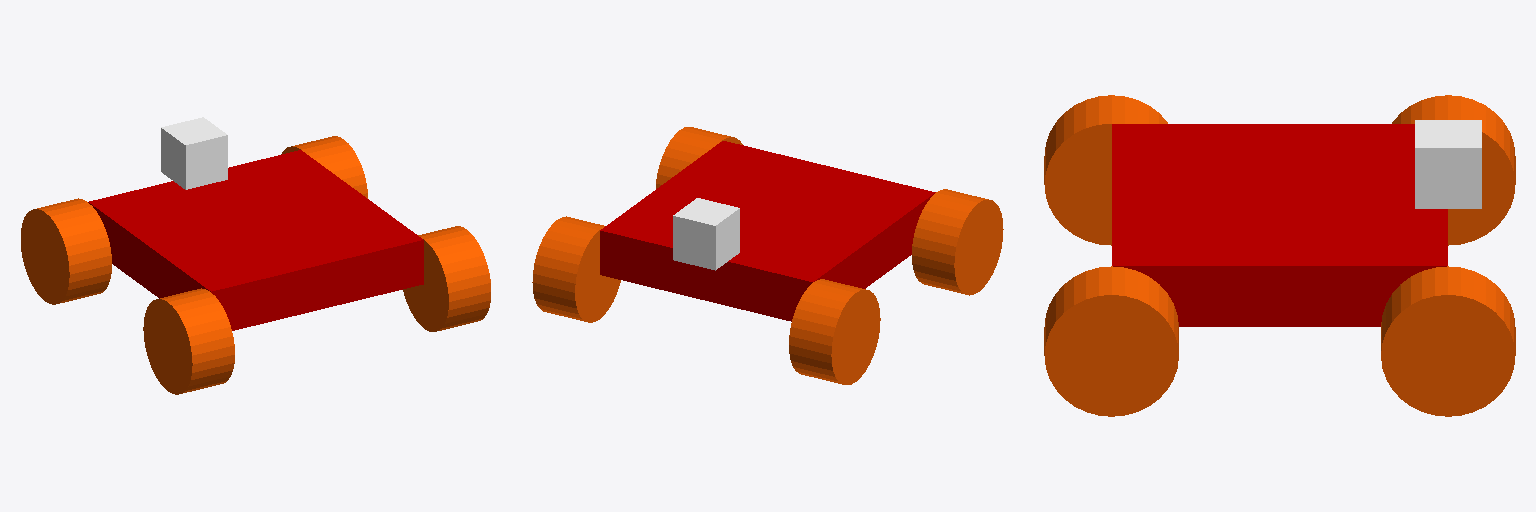
robot.urdf — car:
<?xml version="1.0" ?>
<!-- =================================================================================== -->
<!-- |    This document was autogenerated by xacro from car.xacro                      | -->
<!-- |    EDITING THIS FILE BY HAND IS NOT RECOMMENDED                                 | -->
<!-- =================================================================================== -->
<robot name="car">
  <material name="black">
    <color rgba="0.0 0.0 0.0 1.0"/>
  </material>
  <material name="blue">
    <color rgba="0.0 0.0 0.8 1.0"/>
  </material>
  <material name="green">
    <color rgba="0.0 0.8 0.0 1.0"/>
  </material>
  <material name="grey">
    <color rgba="0.2 0.2 0.2 1.0"/>
  </material>
  <material name="orange">
    <color rgba="1.0 0.4235294117647059 0.0392156862745098 1.0"/>
  </material>
  <material name="brown">
    <color rgba="0.8705882352941177 0.8117647058823529 0.7647058823529411 1.0"/>
  </material>
  <material name="red">
    <color rgba="0.8 0.0 0.0 1.0"/>
  </material>
  <material name="white">
    <color rgba="1.0 1.0 1.0 1.0"/>
  </material>
  <!-- #region XACRO_MACROS -->
  <!-- #endregion -->
  <!-- #endregion -->
  <!-- #endregion -->
  <!-- #endregion -->
  <!-- ROBOT BEGINS HERE -->
  <!-- ROBOT BEGINS HERE -->
  <!-- ROBOT BEGINS HERE -->
  <!-- #region BASE -->
  <link name="base_link">
    <visual>
      <origin rpy="0 0 0" xyz="0 0 0"/>
      <geometry>
        <box size="0.5 0.5 0.1"/>
      </geometry>
      <material name="red"/>
    </visual>
    <collision>
      <origin rpy="0 0 0" xyz="0 0 0"/>
      <geometry>
        <box size="0.5 0.5 0.1"/>
      </geometry>
    </collision>
    <inertial>
      <mass value="0.05"/>
      <inertia ixx="0.0010833333333333333" ixy="0" ixz="0" iyy="0.0020833333333333333" iyz="0" izz="0.0010833333333333333"/>
    </inertial>
  </link>
  <!-- #endregion -->
  <!-- #region WHEELS -->
  <!-- #region FRONT_LEFT_WHEEL -->
  <link name="front_left_wheel">
    <visual>
      <origin rpy="0 1.570796327 0" xyz="0.051 0 0"/>
      <geometry>
        <cylinder length="0.1" radius="0.1"/>
      </geometry>
      <material name="orange"/>
    </visual>
    <collision>
      <origin rpy="0 1.570796327 0" xyz="0.051 0 0"/>
      <geometry>
        <cylinder length="0.1" radius="0.1"/>
      </geometry>
    </collision>
    <inertial>
      <mass value="0.05"/>
      <inertia ixx="0.0001666666666666667" ixy="0" ixz="0" iyy="0.0001666666666666667" iyz="0" izz="0.00025000000000000006"/>
    </inertial>
  </link>
  <joint name="base_to_front_left_wheel" type="fixed">
    <parent link="base_link"/>
    <child link="front_left_wheel"/>
    <!-- joint of child is xyz away from parent -->
    <origin xyz="0.25 0.25 -0.05"/>
    <axis xyz="1 0 0"/>
  </joint>
  <!-- #endregion -->
  <!-- #region FRONT_RIGHT_WHEEL -->
  <link name="front_right_wheel">
    <visual>
      <origin rpy="0 -1.570796327 0" xyz="0.051 0 0"/>
      <geometry>
        <cylinder length="0.1" radius="0.1"/>
      </geometry>
      <material name="orange"/>
    </visual>
    <collision>
      <origin rpy="0 -1.570796327 0" xyz="0.051 0 0"/>
      <geometry>
        <cylinder length="0.1" radius="0.1"/>
      </geometry>
    </collision>
    <inertial>
      <mass value="0.05"/>
      <inertia ixx="0.0001666666666666667" ixy="0" ixz="0" iyy="0.0001666666666666667" iyz="0" izz="0.00025000000000000006"/>
    </inertial>
  </link>
  <joint name="base_to_front_right_wheel" type="fixed">
    <parent link="base_link"/>
    <child link="front_right_wheel"/>
    <!-- joint of child is xyz away from parent -->
    <origin xyz="0.25 -0.25 -0.05"/>
    <axis xyz="1 0 0"/>
  </joint>
  <!-- #endregion -->
  <!-- #region BACK_LEFT_WHEEL -->
  <link name="back_left_wheel">
    <visual>
      <origin rpy="0 1.570796327 0" xyz="-0.051 0 0"/>
      <geometry>
        <cylinder length="0.1" radius="0.1"/>
      </geometry>
      <material name="orange"/>
    </visual>
    <collision>
      <origin rpy="0 1.570796327 0" xyz="-0.051 0 0"/>
      <geometry>
        <cylinder length="0.1" radius="0.1"/>
      </geometry>
    </collision>
    <inertial>
      <mass value="0.05"/>
      <inertia ixx="0.0001666666666666667" ixy="0" ixz="0" iyy="0.0001666666666666667" iyz="0" izz="0.00025000000000000006"/>
    </inertial>
  </link>
  <joint name="base_to_back_left_wheel" type="fixed">
    <parent link="base_link"/>
    <child link="back_left_wheel"/>
    <!-- joint of child is xyz away from parent -->
    <origin xyz="-0.25 0.25 -0.05"/>
    <axis xyz="1 0 0"/>
  </joint>
  <!-- #endregion -->
  <!-- #region BACK_RIGHT_WHEEL -->
  <link name="back_right_wheel">
    <visual>
      <origin rpy="0 1.570796327 0" xyz="-0.051 0 0"/>
      <geometry>
        <cylinder length="0.1" radius="0.1"/>
      </geometry>
      <material name="orange"/>
    </visual>
    <collision>
      <origin rpy="0 1.570796327 0" xyz="-0.051 0 0"/>
      <geometry>
        <cylinder length="0.1" radius="0.1"/>
      </geometry>
    </collision>
    <inertial>
      <mass value="0.05"/>
      <inertia ixx="0.0001666666666666667" ixy="0" ixz="0" iyy="0.0001666666666666667" iyz="0" izz="0.00025000000000000006"/>
    </inertial>
  </link>
  <joint name="base_to_back_right_wheel" type="fixed">
    <parent link="base_link"/>
    <child link="back_right_wheel"/>
    <!-- joint of child is xyz away from parent -->
    <origin xyz="-0.25 -0.25 -0.05"/>
    <axis xyz="1 0 0"/>
  </joint>
  <!-- #endregion -->
  <!-- #endregion -->
  <!-- #region CAMERA -->
  <link name="camera">
    <visual>
      <origin rpy="0 0 0" xyz="0 0 0.05"/>
      <geometry>
        <box size="0.1 0.1 0.1"/>
      </geometry>
      <material name="white"/>
    </visual>
    <collision>
      <origin rpy="0 0 0" xyz="0 0 0.05"/>
      <geometry>
        <box size="0.1 0.1 0.1"/>
      </geometry>
    </collision>
    <inertial>
      <mass value="0"/>
      <inertia ixx="0.0" ixy="0" ixz="0" iyy="0.0" iyz="0" izz="0.0"/>
    </inertial>
  </link>
  <joint name="base_to_camera" type="fixed">
    <axis xyz="0 1 0"/>
    <origin rpy="0 0 1.57" xyz="0 0.25 0.05"/>
    <parent link="base_link"/>
    <child link="camera"/>
  </joint>
  <!-- #endregion -->
</robot>

--- Render facts (derived) ---
Views: 3 orthographic renders of the robot side by side, from view 1: azimuth 30°, elevation 25°; view 2: azimuth 150°, elevation 25°; view 3: azimuth 270°, elevation 25°.
Model car with 6 links and 5 joints (5 fixed), rooted at base_link, posed all joints at 0.
Visible links, largest first — view 1: base_link, back_right_wheel, back_left_wheel, front_right_wheel, camera, front_left_wheel; view 2: base_link, back_left_wheel, back_right_wheel, front_left_wheel, camera, front_right_wheel; view 3: base_link, front_left_wheel, front_right_wheel, back_right_wheel, back_left_wheel, camera.
Link boxes in pixels (x1,y1,x2,y2): base_link: (88, 150, 423, 330); back_right_wheel: (143, 288, 234, 394); back_left_wheel: (21, 198, 111, 304); front_right_wheel: (403, 226, 490, 331); camera: (161, 117, 227, 189); front_left_wheel: (281, 136, 367, 198); base_link: (600, 141, 935, 321); back_left_wheel: (789, 279, 880, 384); back_right_wheel: (912, 189, 1003, 295); front_left_wheel: (532, 216, 620, 322); camera: (673, 198, 739, 270); front_right_wheel: (656, 127, 742, 188); base_link: (1112, 124, 1447, 326); front_left_wheel: (1381, 266, 1515, 416); front_right_wheel: (1044, 266, 1178, 416); back_right_wheel: (1044, 95, 1167, 245); back_left_wheel: (1392, 95, 1515, 245); camera: (1415, 120, 1481, 208).
Bounding box of the posed robot: 0.702 × 0.7 × 0.3 m (x, y, z).
Geometry: primitives only (box / cylinder / sphere), no mesh files.